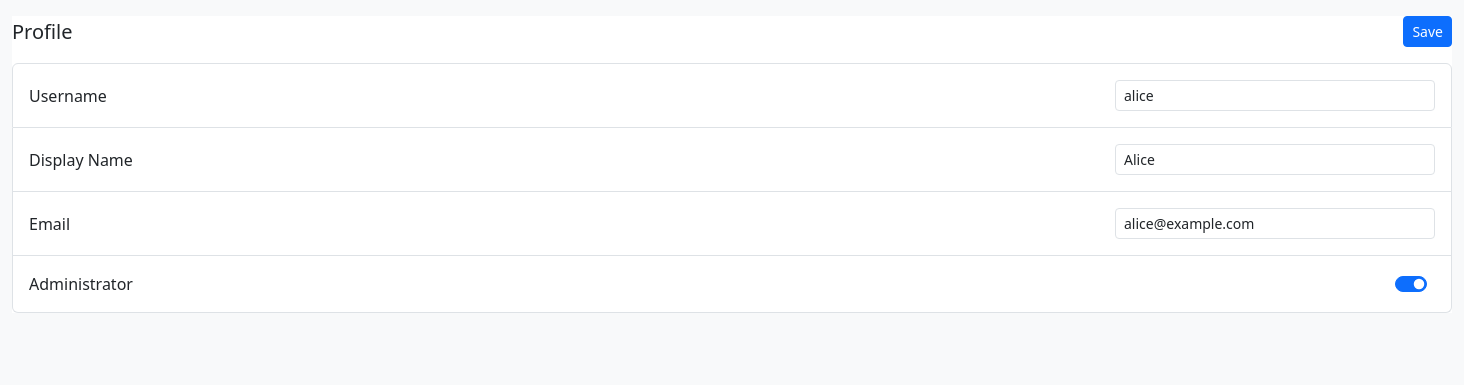
it: AdminUserProfileForm › displays error message when update fails with Error
Click the button "Save". click: (1428, 32)
box: [1403,16,1452,47]
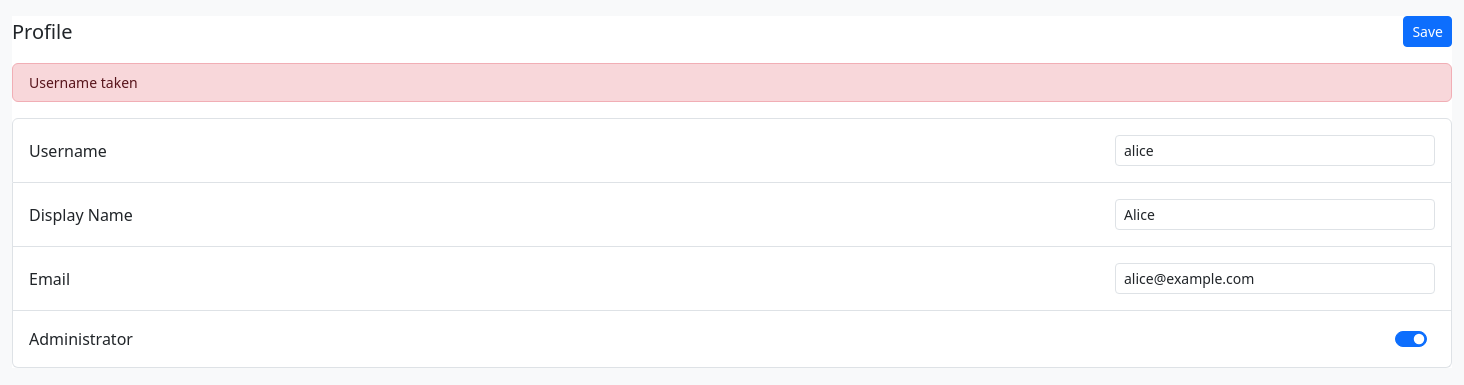
Check: the message reads "Username taken", box [29,73,138,92]
